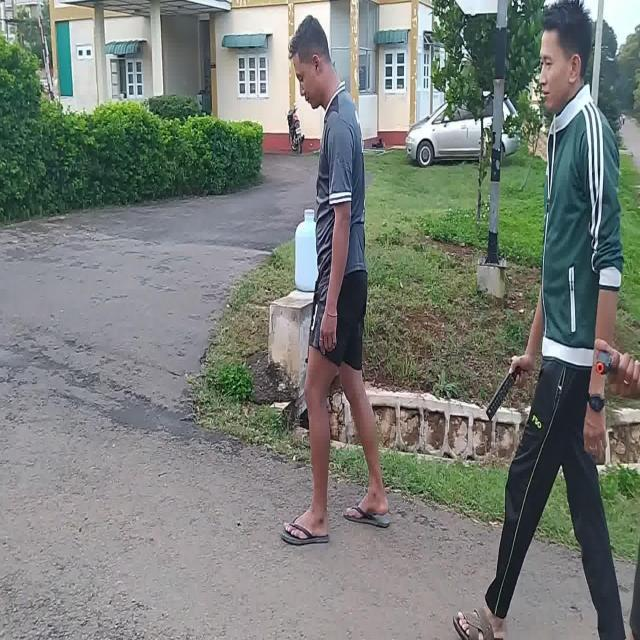gun: (596, 348, 611, 374)
